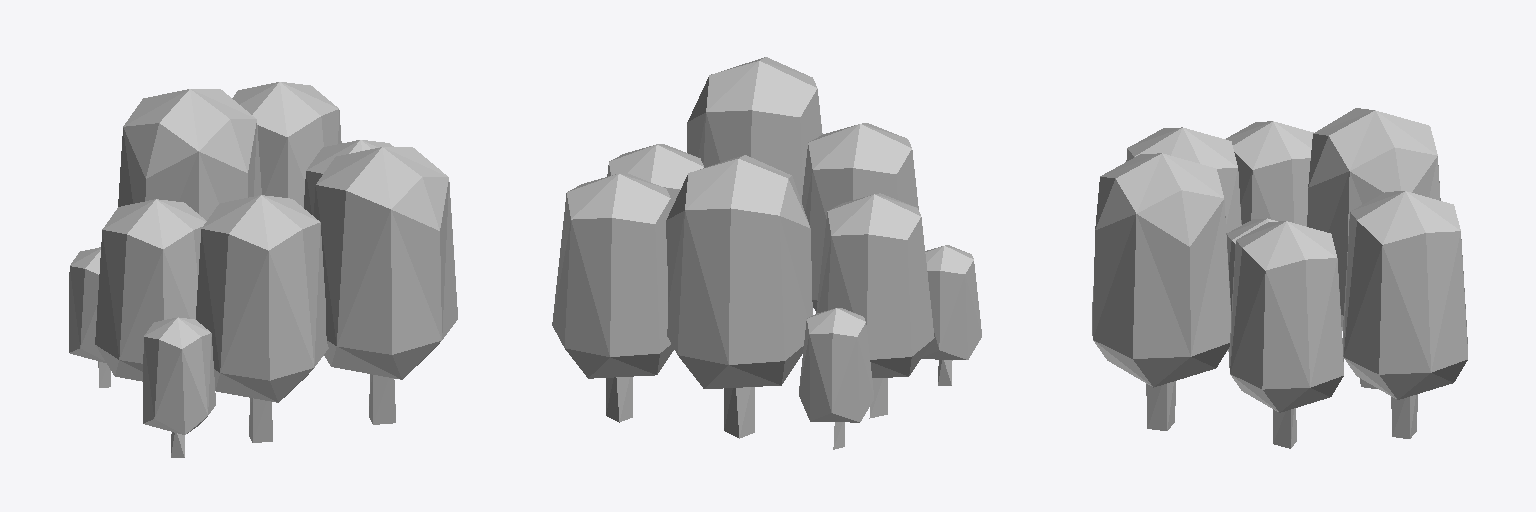
Rendered from ForestS_3.obj.
The picture shows the model from 3 angles: view 1: azimuth 30°, elevation 25°; view 2: azimuth 150°, elevation 25°; view 3: azimuth 270°, elevation 25°; orthographic projection.
Parts seen in each view (by area): view 1: Center.001; view 2: Center.001; view 3: Center.001.
Boxes of the visible parts, x1,y1,x2,y2 form: Center.001: [69, 82, 457, 457]; Center.001: [552, 57, 981, 449]; Center.001: [1092, 108, 1467, 448].
Size of the model in its own units: 1.13 by 0.9329 by 1.16.